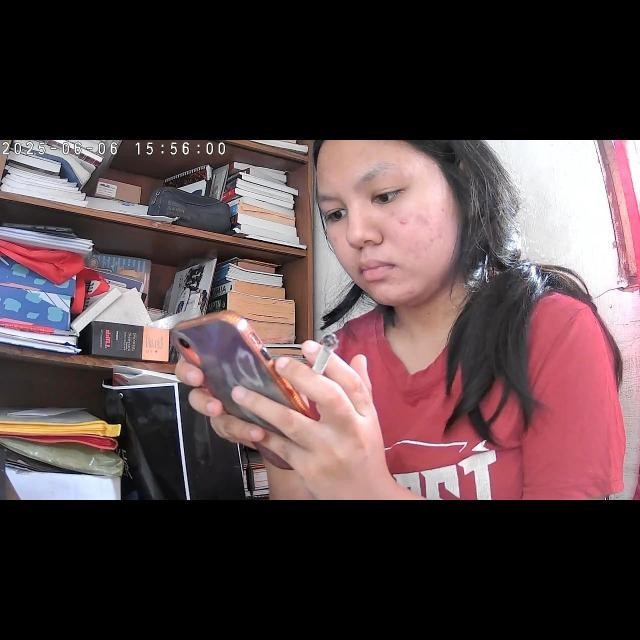rokok: (308, 330, 342, 378)
